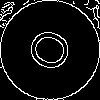O: (25, 25, 83, 79)
